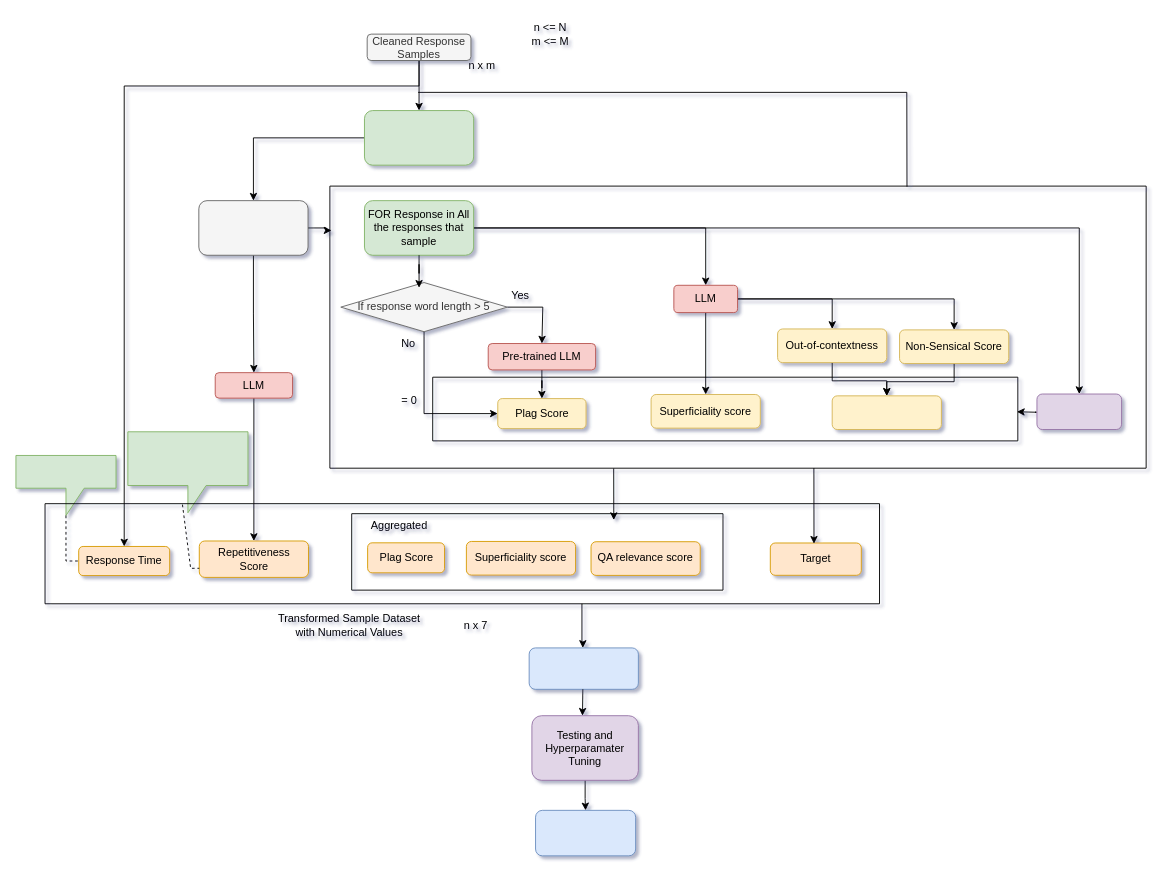
This 1168x877 diagram has some shape labels left out. Here are the shapes that lost their labels. From the top down, the centre of each, then its label:
[419,137]: FOR Sample in Cleaned Response Samples
[253,227]: All the responses in that sample
[886,412]: QA relevance
[1079,411]: Weight
[65,485]: to identify Survey Farms
[187,472]: To analyze intra-survey repetitive responses (Future Scope)
[583,668]: ML model Training
[585,832]: Trained ML model
